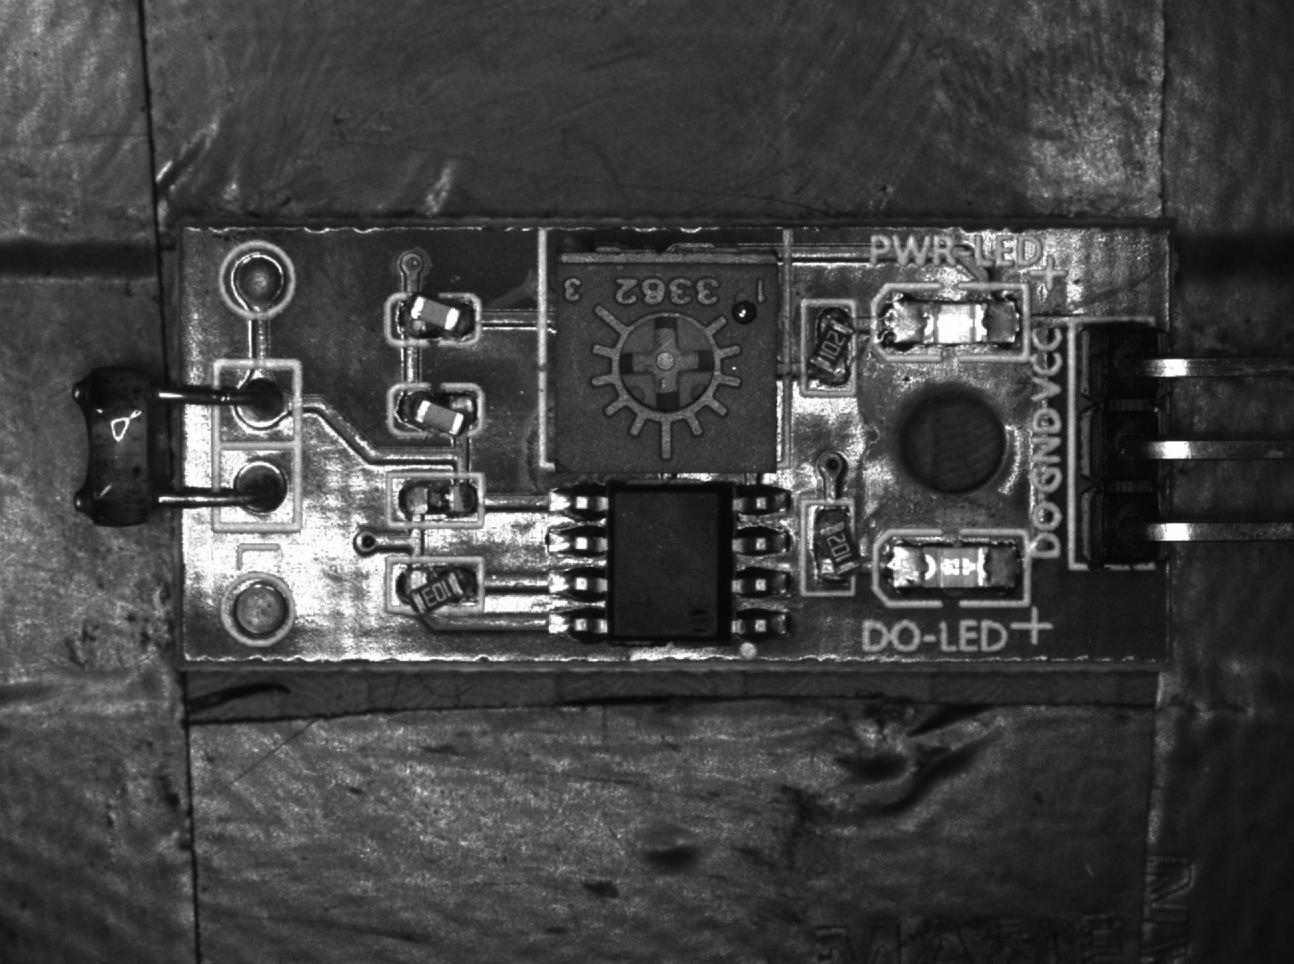lifted: (383, 559, 481, 622), (382, 289, 482, 345), (804, 502, 861, 593), (392, 385, 483, 439), (802, 299, 853, 394)
miss: (386, 471, 486, 529)
